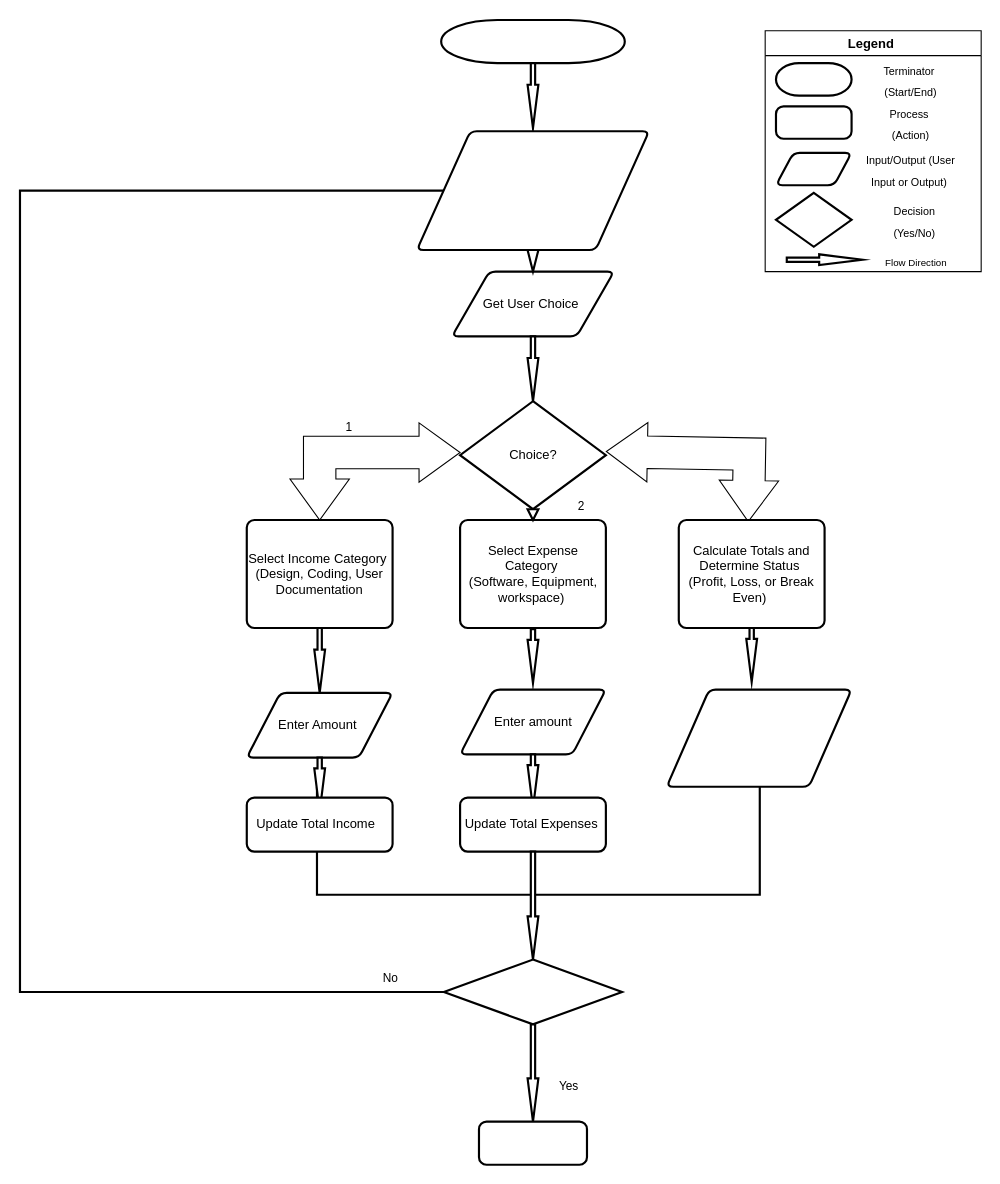
This 1000x1184 diagram has some shape labels left out. Each missing label, with the centre of its shape:
"3 or 4" belongs at point 692,471.
"Display main menu: 1. Log Income 2. Log Expenses 3. View Summary 4. Exit" belongs at point 532,190.
"Display Summary (Income, Expenses, Net Balance, Status" belongs at point 758,737.
"End" belongs at point 532,1142.
"Exit Program?" belongs at point 532,991.
"Start" belongs at point 532,41.
